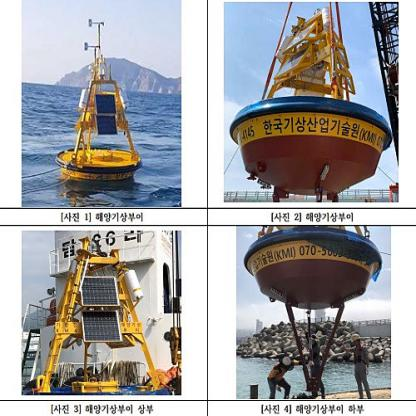buoy: (231, 4, 394, 198), (52, 12, 147, 191)
